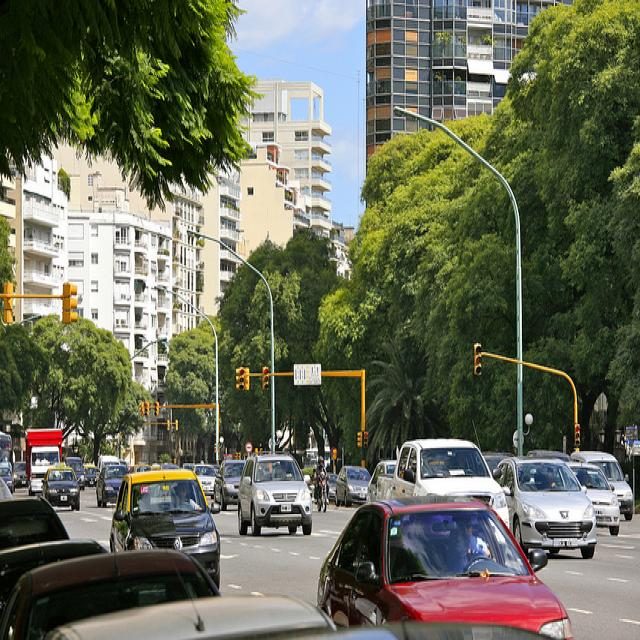motor: (313, 469, 334, 513)
